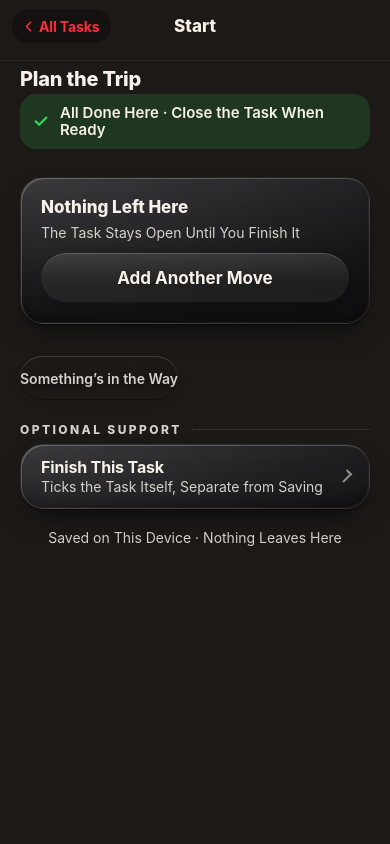
StartScreen: progress and acknowledgment › the last step is a stopping point and the task is not closed from here
Expected: the text "Nothing Left Here" is shown, [41,196,188,216]
Click the button "Add Another Move": click(195, 278) [41,253,349,303]
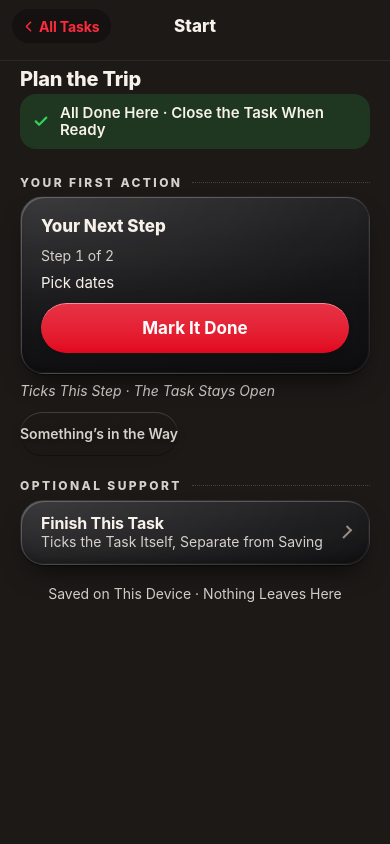
Now the text "Nothing Left Here" is gone
